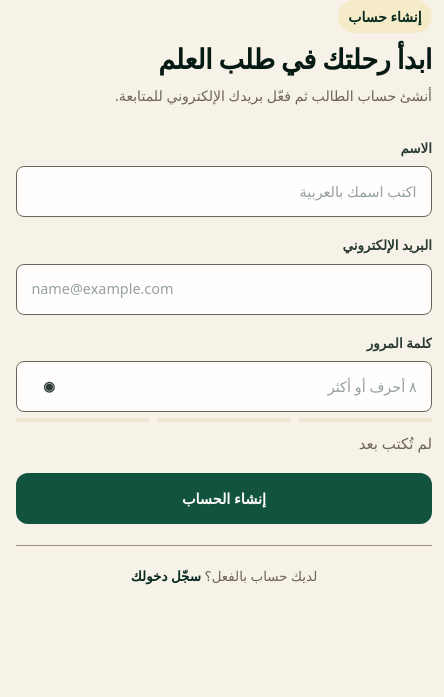
Test: RegisterComponent › keeps the register button actionable so invalid fields can explain the problem
Click the submit button at (224, 499), box [16,473,432,524]
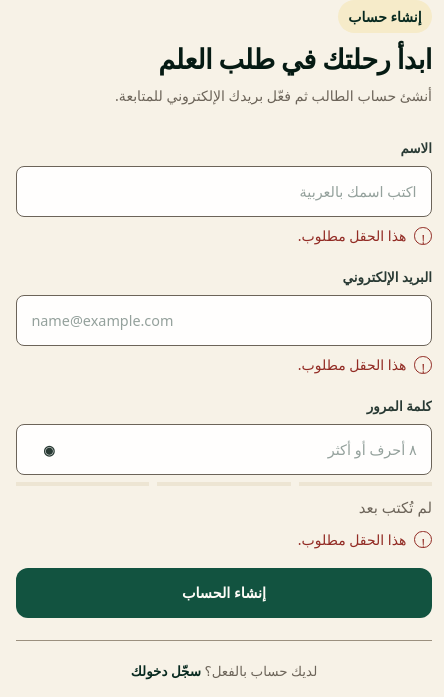
Expected: the text "هذا الحقل مطلوب" is shown, [298,226,406,245]
